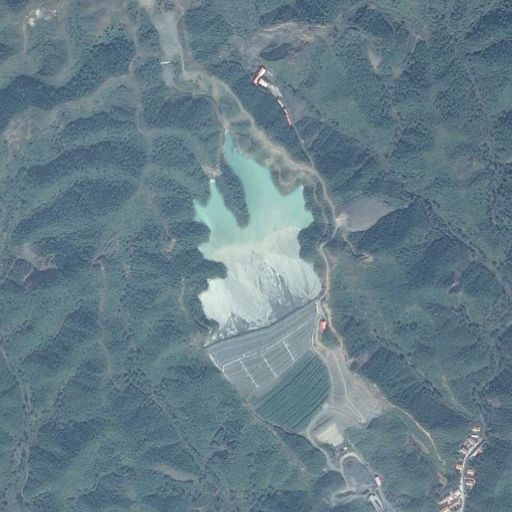tp: (188, 129, 331, 433)
